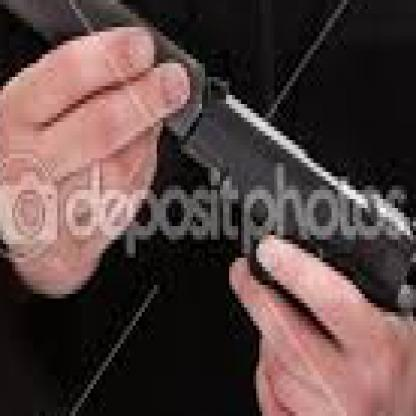gun: (0, 0, 413, 357)
